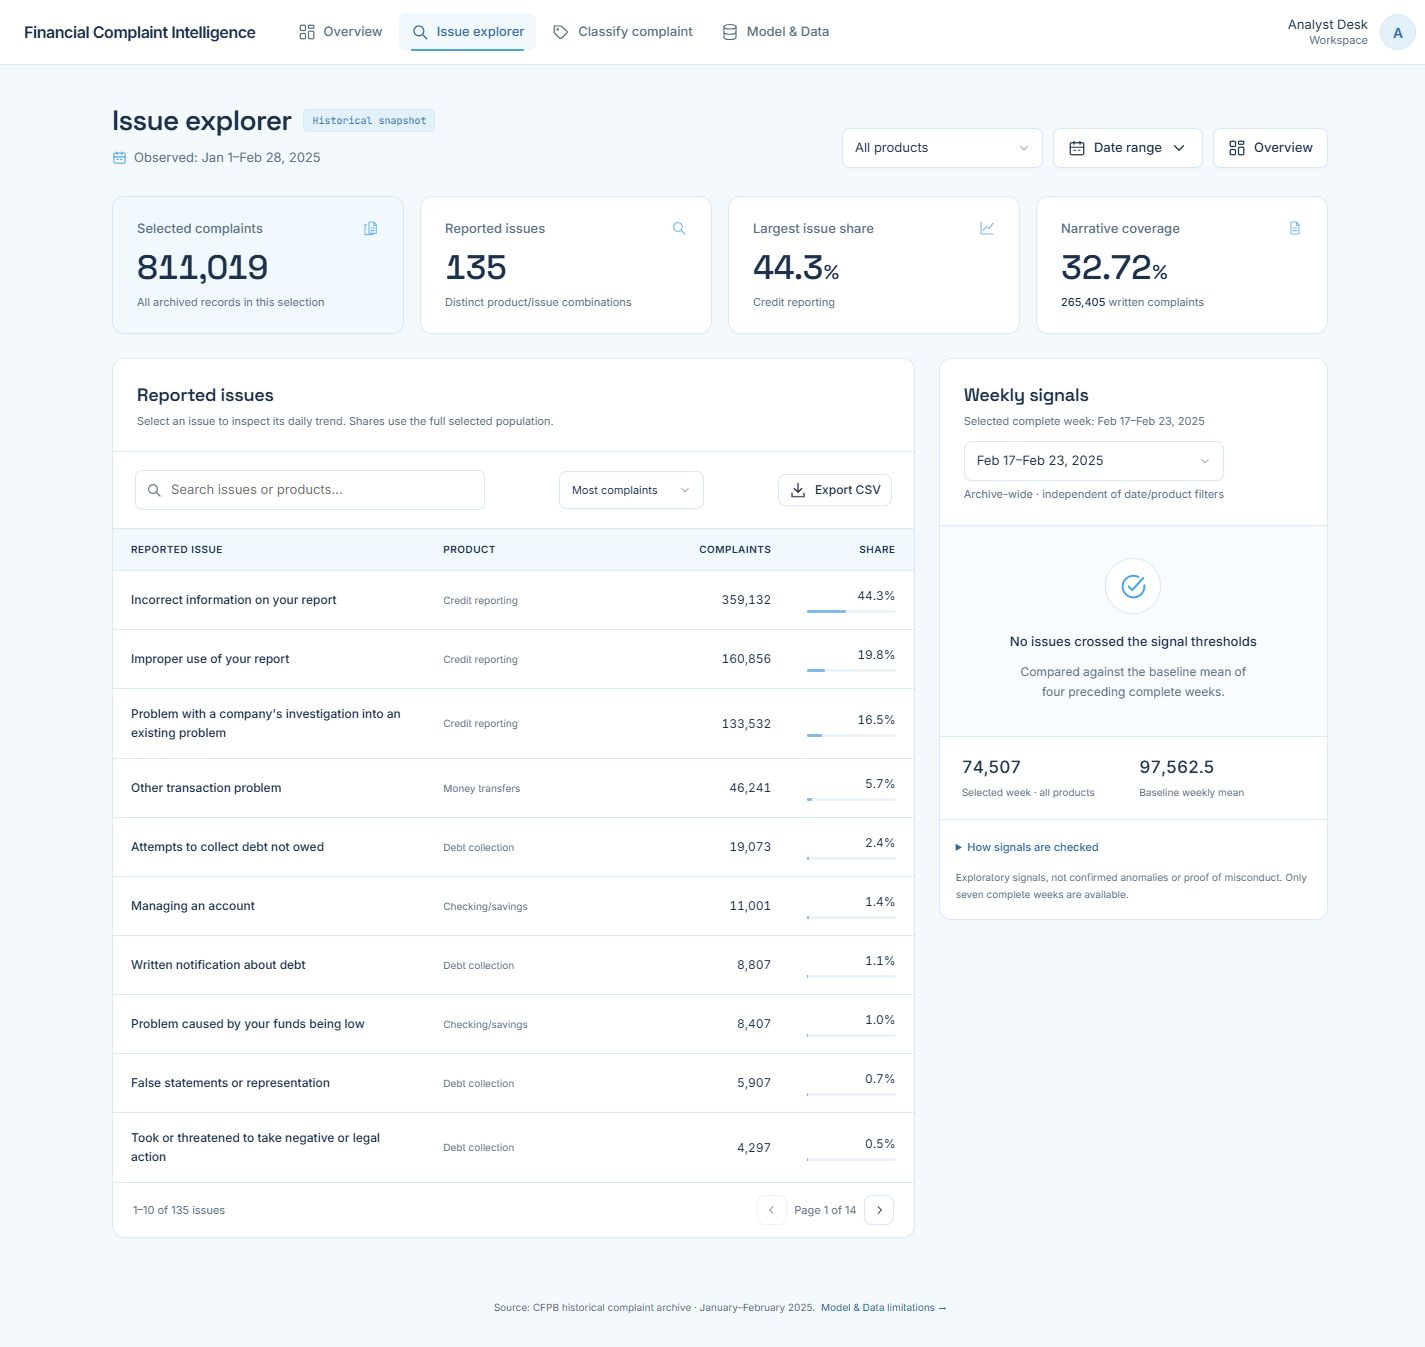

Layout of this report page (visuals, bound fields, positions):
{"tool":"powerbi","page":{"name":"Issue Explorer","canvas":[1600,1050],"ordinal":1},"visuals":[{"type":"textbox","box":[26,16,800,48],"z":17},{"type":"textbox","box":[28,66,770,29],"z":18},{"type":"pageNavigator","box":[844,30,724,54],"z":19},{"type":"textbox","box":[26,110,650,45],"z":20},{"type":"textbox","box":[28,160,630,36],"z":21},{"type":"textbox","box":[28,1016,1510,28],"z":22},{"type":"slicer","fields":{"Values":["Products.Product Short"]},"box":[684,108,264,88],"z":23},{"type":"slicer","fields":{"Values":["Issues.Issue"]},"box":[964,108,300,88],"z":24},{"type":"slicer","fields":{"Values":["Calendar.Date"]},"box":[1280,108,288,88],"z":25},{"type":"card","title":"Complaints in selection","fields":{"Values":["Complaints.Total Complaints"]},"box":[32,218,360,124],"z":26},{"type":"card","title":"Written narratives","fields":{"Values":["Complaints.Written Complaints"]},"box":[424,218,360,124],"z":27},{"type":"card","title":"Narrative coverage","fields":{"Values":["Complaints.Narrative Coverage"]},"box":[816,218,360,124],"z":28},{"type":"card","title":"Product / issue combinations","fields":{"Values":["Complaints.Issues in Selection"]},"box":[1208,218,360,124],"z":29},{"type":"lineChart","title":"Reporting trend for the current selection","fields":{"Category":["Calendar.Date"],"Y":["Complaints.Total Complaints","Complaints.Written Complaints"]},"box":[32,370,1032,300],"z":30},{"type":"textbox","box":[1094,370,474,300],"z":31},{"type":"tableEx","title":"Product and issue detail","fields":{"Values":["Products.Product Short","Issues.Issue","Complaints.Total Complaints","Complaints.Written Complaints","Complaints.Narrative Coverage","Complaints.Timely Response Rate"]},"box":[32,700,1536,290],"z":32}]}

Visuals, with their boxes on the page's 1600x1050 design canvas (x1, y1, x2, y2). These are canvas units, not pixel positions in the 1425x1347 screenshot, which may show the page scaled, cropped or inside an application window:
textbox: [26, 16, 826, 64]
textbox: [28, 66, 798, 95]
pageNavigator: [844, 30, 1568, 84]
textbox: [26, 110, 676, 155]
textbox: [28, 160, 658, 196]
textbox: [28, 1016, 1538, 1044]
slicer - Products.Product Short: [684, 108, 948, 196]
slicer - Issues.Issue: [964, 108, 1264, 196]
slicer - Calendar.Date: [1280, 108, 1568, 196]
"Complaints in selection" card: [32, 218, 392, 342]
"Written narratives" card: [424, 218, 784, 342]
"Narrative coverage" card: [816, 218, 1176, 342]
"Product / issue combinations" card: [1208, 218, 1568, 342]
"Reporting trend for the current selection" lineChart: [32, 370, 1064, 670]
textbox: [1094, 370, 1568, 670]
"Product and issue detail" tableEx: [32, 700, 1568, 990]
